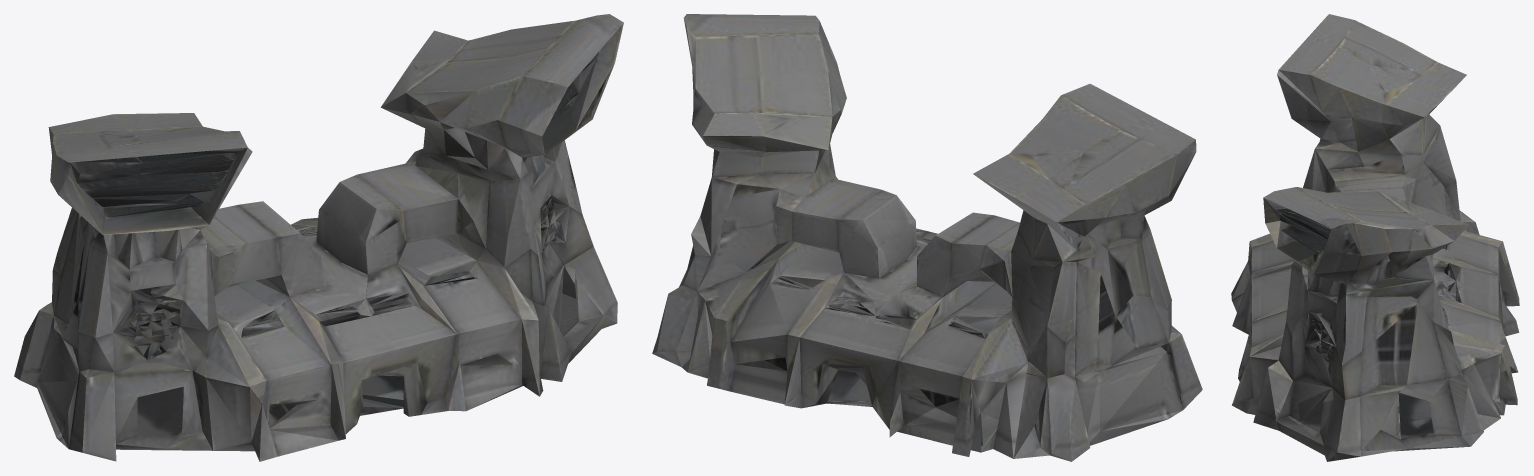
The model's file is imperial_atmospheric_harvester_lod2.glb.
3 renders of one model, left to right at view 1: azimuth 30°, elevation 25°; view 2: azimuth 150°, elevation 25°; view 3: azimuth 270°, elevation 25°, orthographic. The views are drawn at different scales.
Visible parts, largest first — view 1: mesh_node; view 2: mesh_node; view 3: mesh_node.
Part boxes in pixels (<box>): mesh_node: <box>14,14,623,461</box>; mesh_node: <box>652,14,1202,461</box>; mesh_node: <box>1231,14,1519,461</box>.
Bounding box in the file's own units: 37.23 × 19.18 × 20.86.
1 material, 1 textured.
